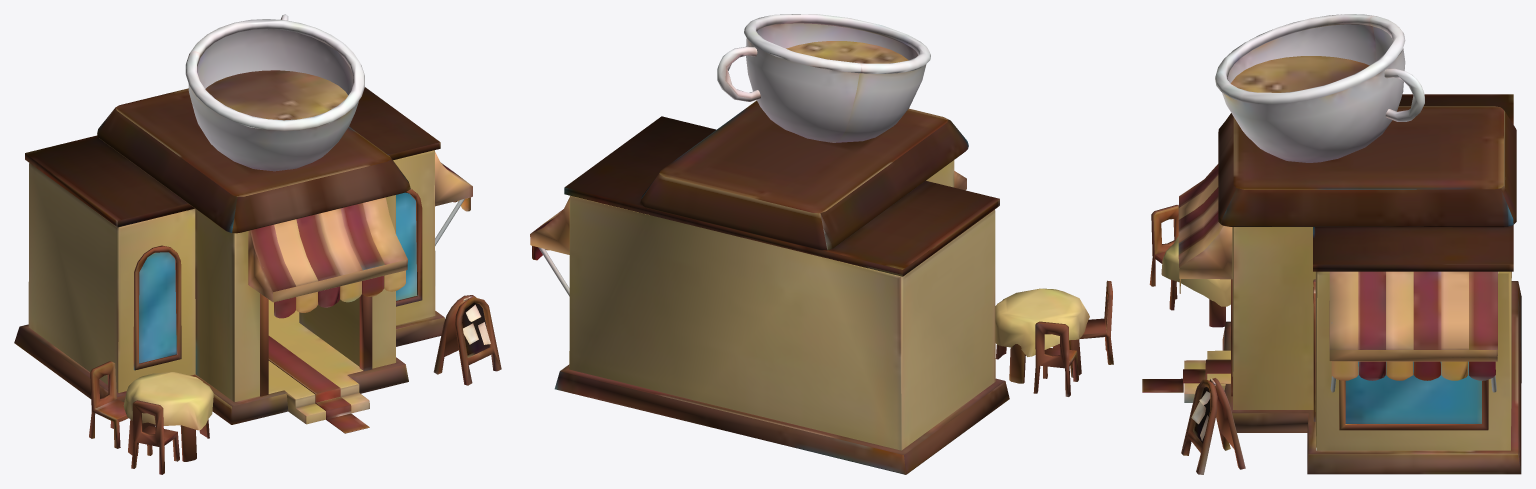
The model's file is BLD_GolgiPost_lod.glb.
3 renders of one model, left to right at view 1: azimuth 30°, elevation 25°; view 2: azimuth 150°, elevation 25°; view 3: azimuth 270°, elevation 25°, orthographic. The views are drawn at different scales.
Parts seen in each view (by area): view 1: building1_lambert1_0; view 2: building1_lambert1_0; view 3: building1_lambert1_0.
Boxes of the visible parts, x1,y1,x2,y2 form: building1_lambert1_0: (14, 14, 501, 474); building1_lambert1_0: (530, 14, 1113, 474); building1_lambert1_0: (1142, 14, 1521, 474).
Bounding box in the file's own units: 0.2158 × 0.1623 × 0.1595.
1 material, 1 textured.
